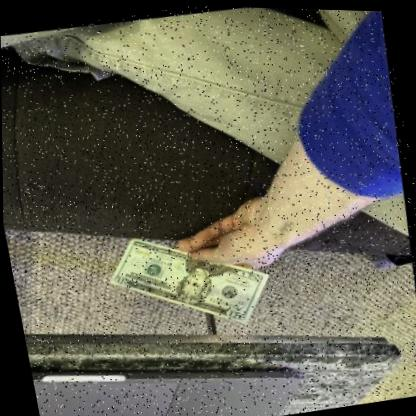twenty-front: (108, 233, 271, 319)
